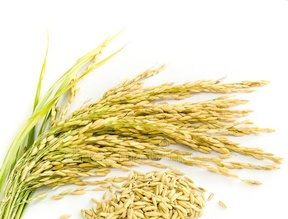rice: (10, 63, 275, 204)
